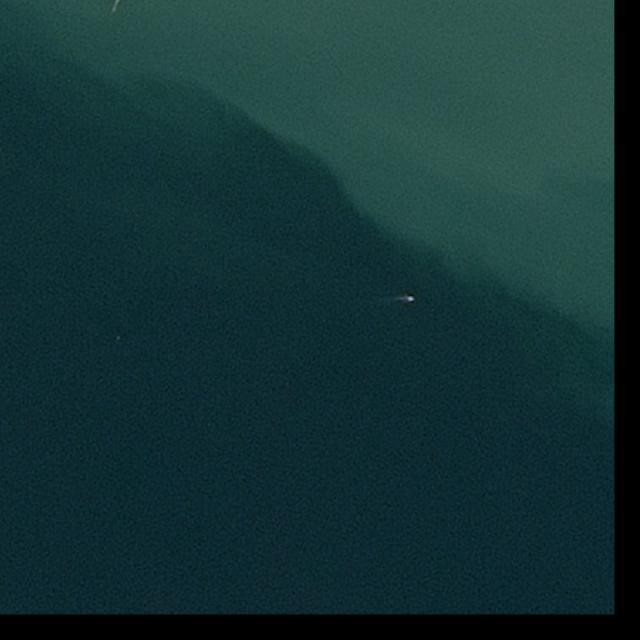ship: (407, 295, 416, 303)
